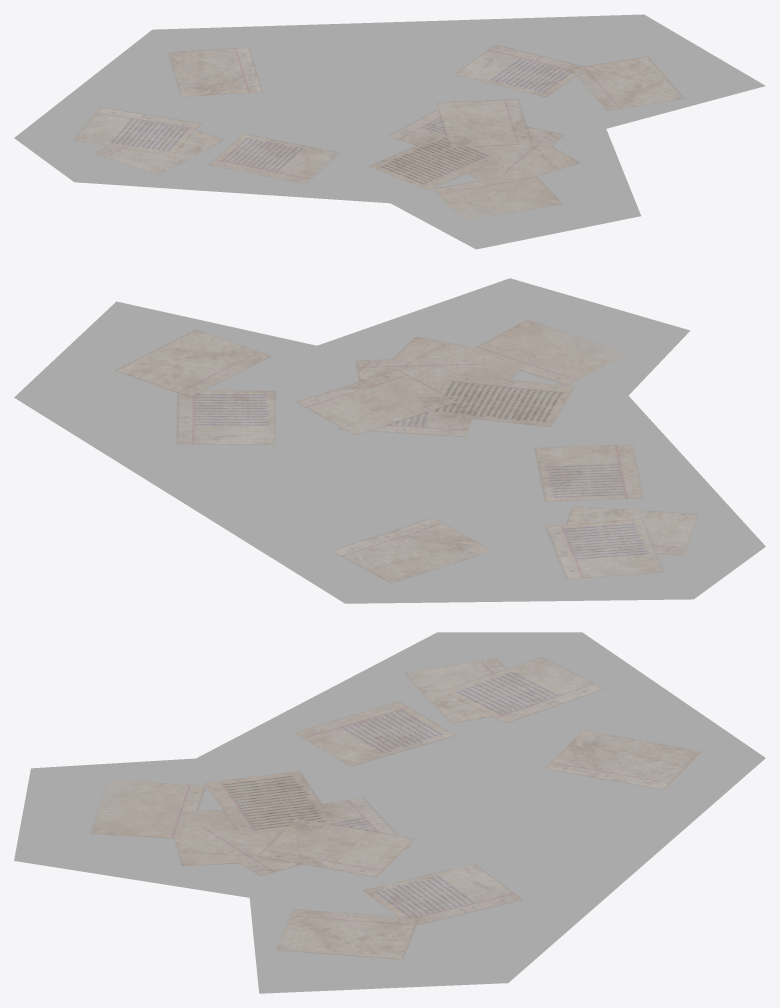
The model's file is SM_Paper_Pile_06.fbx.
3 renders of one model, top to bottom at view 1: azimuth 30°, elevation 25°; view 2: azimuth 150°, elevation 25°; view 3: azimuth 270°, elevation 25°, orthographic. The views are drawn at different scales.
Parts seen in each view (by area): view 1: SM_Paper_Pile_06_LOD0; view 2: SM_Paper_Pile_06_LOD0; view 3: SM_Paper_Pile_06_LOD0.
Boxes of the visible parts, <box> form: SM_Paper_Pile_06_LOD0: <box>14,14,765,249</box>; SM_Paper_Pile_06_LOD0: <box>14,278,765,603</box>; SM_Paper_Pile_06_LOD0: <box>14,632,765,993</box>.
Bounding box in the file's own units: 117 × 103 × 5.12e-06.
